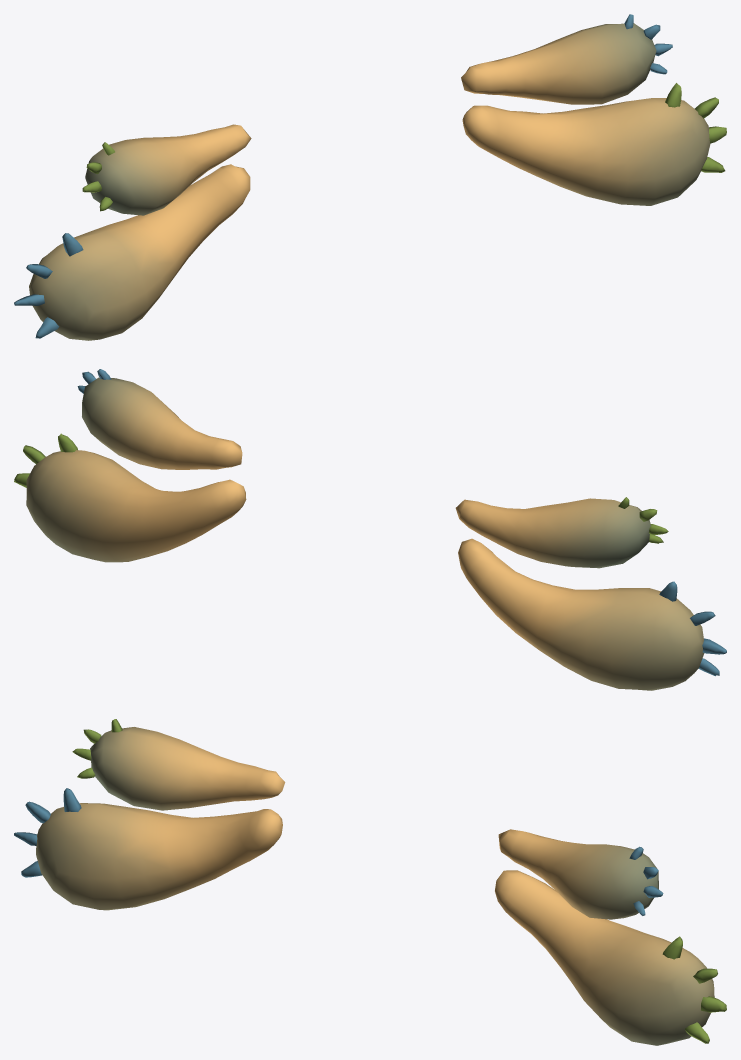
The model's file is potato_arms3.fbx.
3 renders of one model, top to bottom at view 1: azimuth 30°, elevation 25°; view 2: azimuth 150°, elevation 25°; view 3: azimuth 330°, elevation 25°, orthographic.
Parts seen in each view (by area): view 1: arms4_arms_3rd_variation; view 2: arms4_arms_3rd_variation; view 3: arms4_arms_3rd_variation.
Part boxes in pixels (left/top/right/bottom): arms4_arms_3rd_variation: left=14, top=14, right=726, bottom=340; arms4_arms_3rd_variation: left=14, top=369, right=726, bottom=690; arms4_arms_3rd_variation: left=14, top=719, right=726, bottom=1045.
Bounding box in the file's own units: 5.54 × 1.4 × 0.7078.
